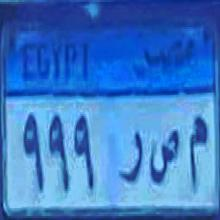9: (20, 107, 44, 192), (71, 113, 96, 192), (45, 112, 70, 190)
meem: (186, 111, 208, 198)
raa: (118, 127, 143, 191)
saad: (147, 130, 180, 195)
